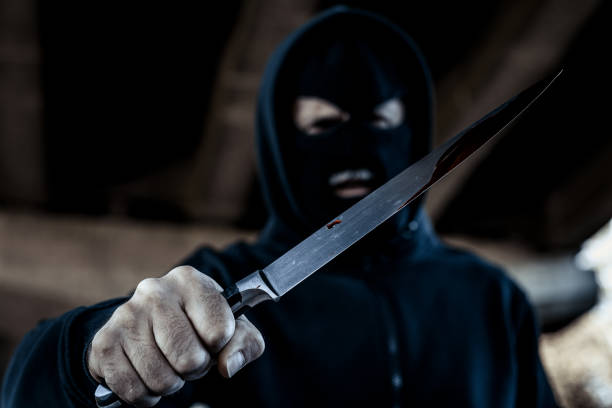knives: (162, 138, 587, 398)
